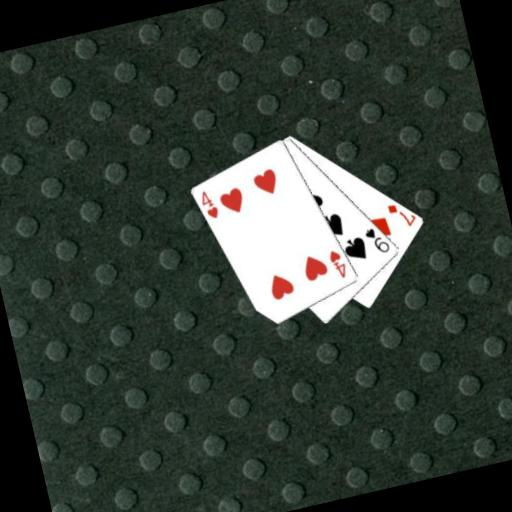4H: (325, 246, 351, 283), (196, 186, 222, 223)
7D: (384, 196, 419, 232)
9S: (361, 222, 393, 258)
